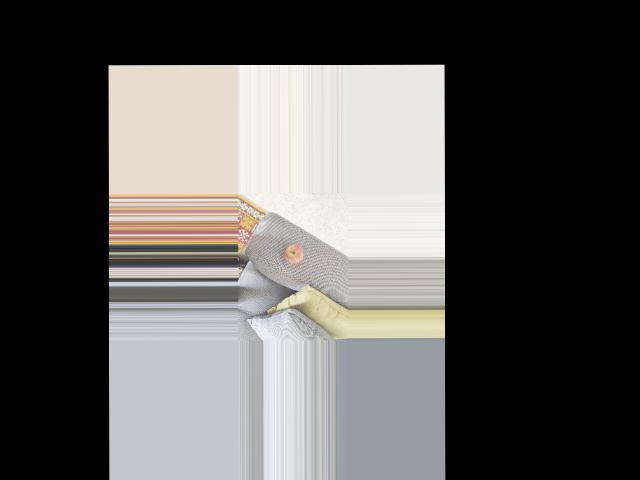apple: (282, 243, 303, 265)
